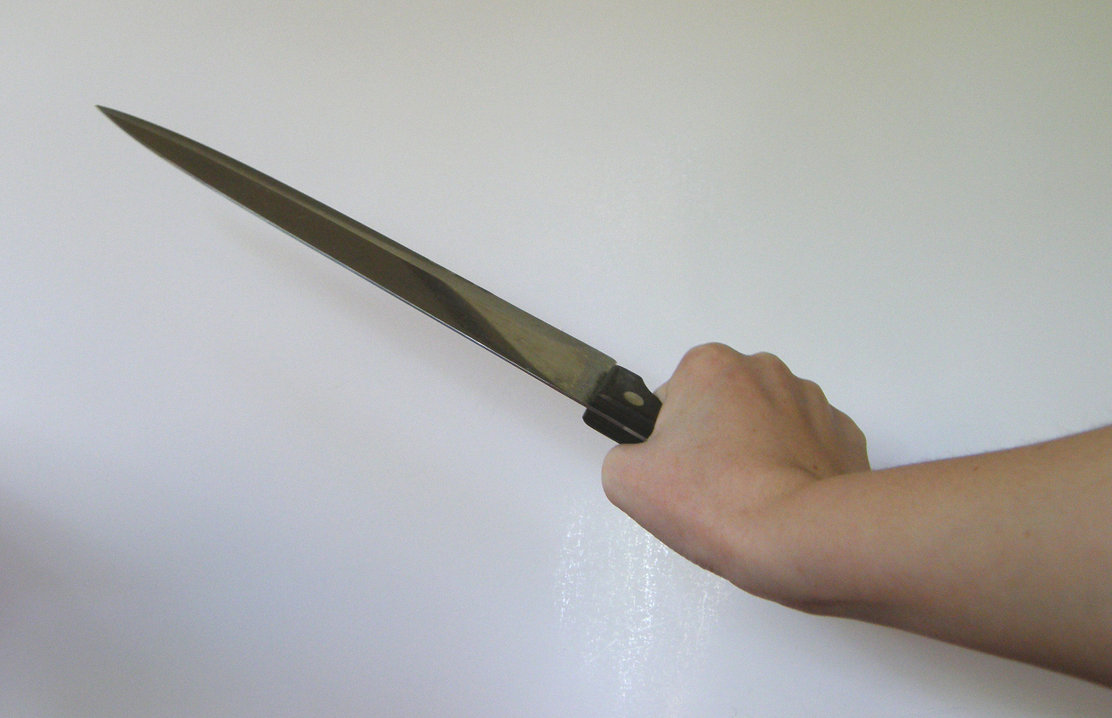knife: (87, 89, 780, 520)
